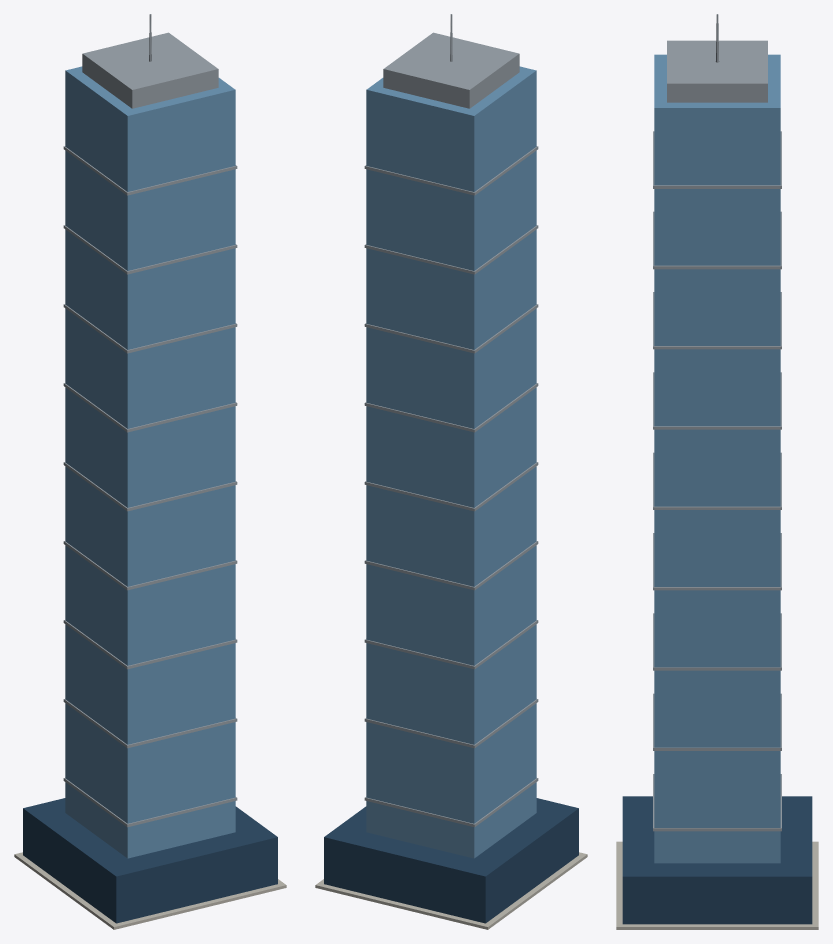
Rendered from zone_C_d4_e4.glb.
3 views of the same model, side by side, from view 1: azimuth 30°, elevation 25°; view 2: azimuth 150°, elevation 25°; view 3: azimuth 270°, elevation 25° (orthographic).
Visible parts, largest first — view 1: zone_C_d4_e4; view 2: zone_C_d4_e4; view 3: zone_C_d4_e4.
Part boxes in pixels (x1,y1,x2,y2): zone_C_d4_e4: [14, 14, 286, 929]; zone_C_d4_e4: [315, 14, 587, 929]; zone_C_d4_e4: [616, 14, 818, 929].
Size of the model in its own units: 0.96 by 4.57 by 0.96.
